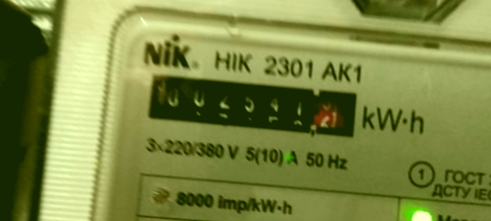0: (163, 82, 184, 110), (191, 82, 208, 110)
1: (291, 91, 306, 119)
2: (215, 85, 234, 111)
4: (267, 89, 282, 113)
5: (240, 86, 261, 116)
6: (317, 110, 333, 130)
screen: (135, 58, 374, 153)
